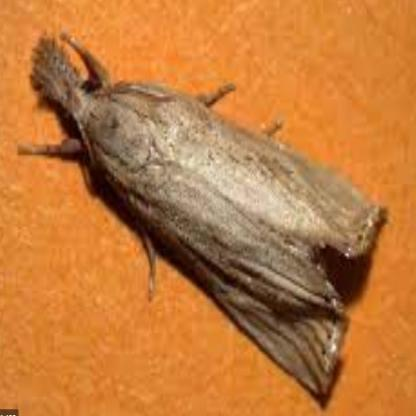stem-borer: (14, 23, 387, 401)
